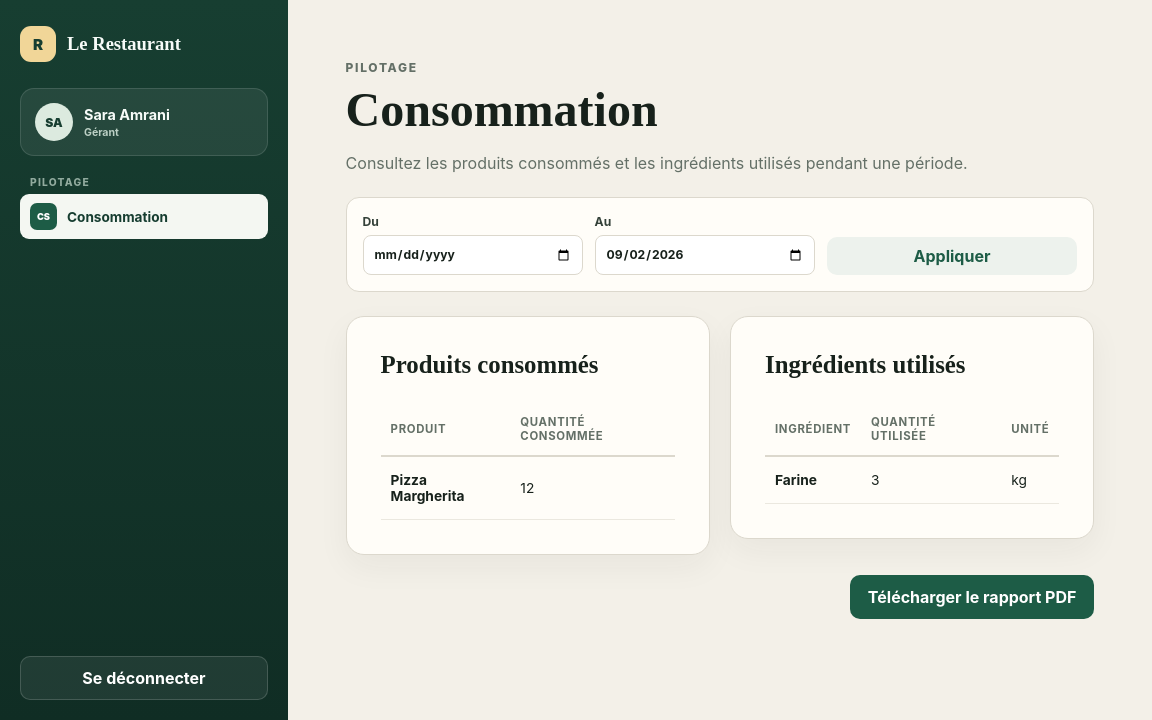
it: consultation des consommations › valide la période avant de relancer le calcul
Click the submit button. click: (952, 256)
box: [827, 237, 1077, 275]
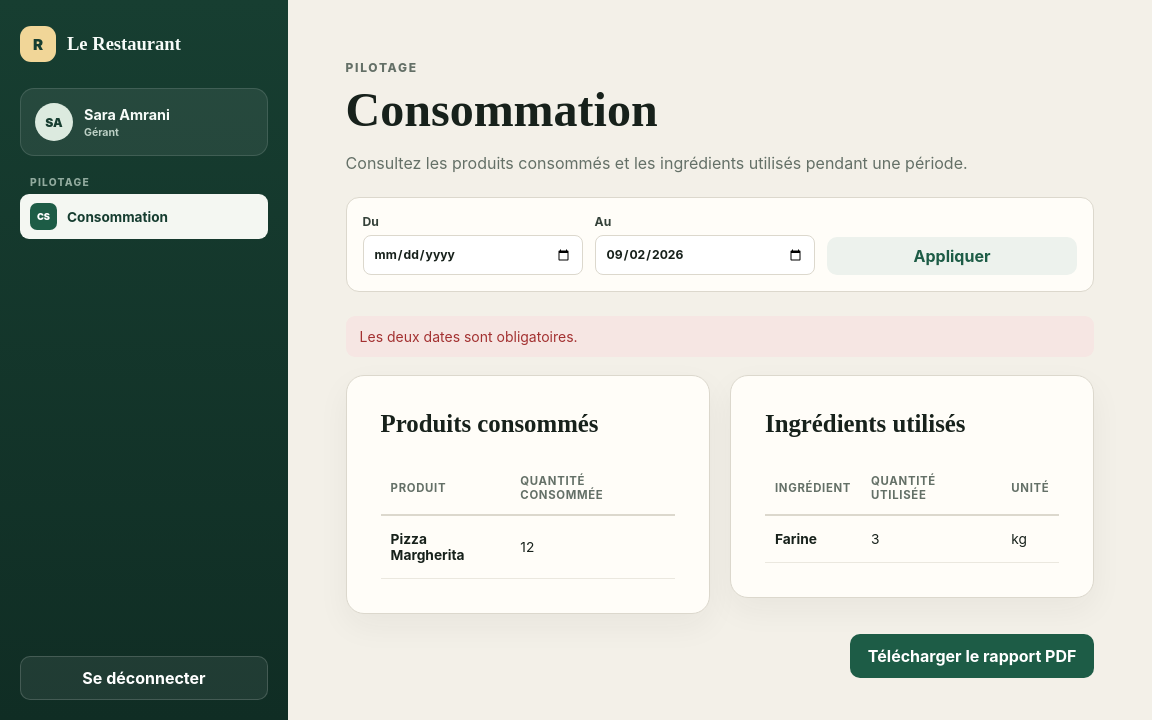
Now the message "Les deux dates sont obligatoires." is shown, box [346, 316, 1094, 357]
